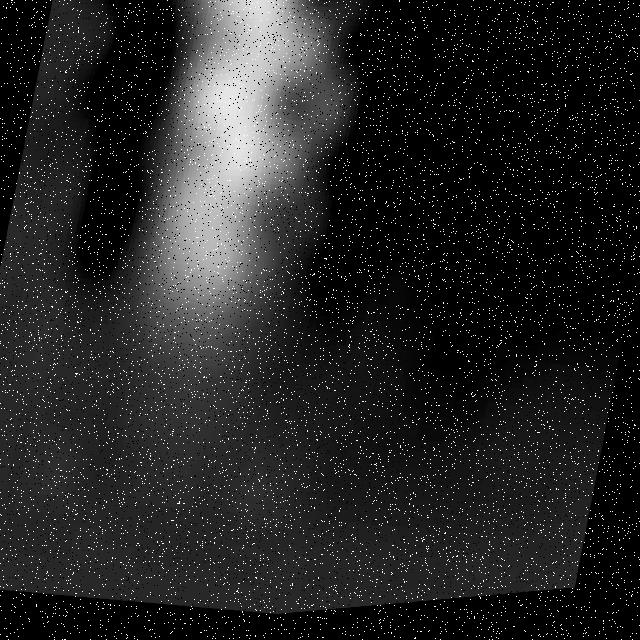person: (76, 1, 368, 420)
